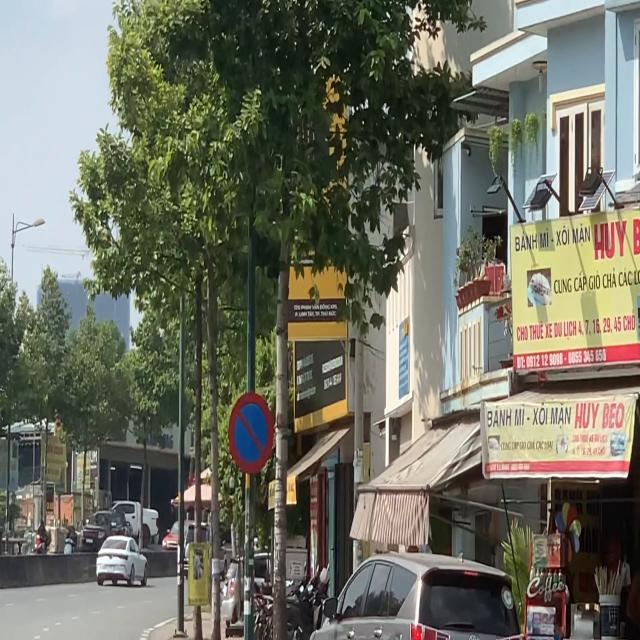Cam do: (224, 392, 277, 482)
